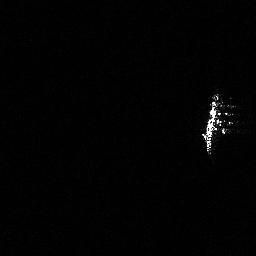ship: (198, 90, 238, 155)
